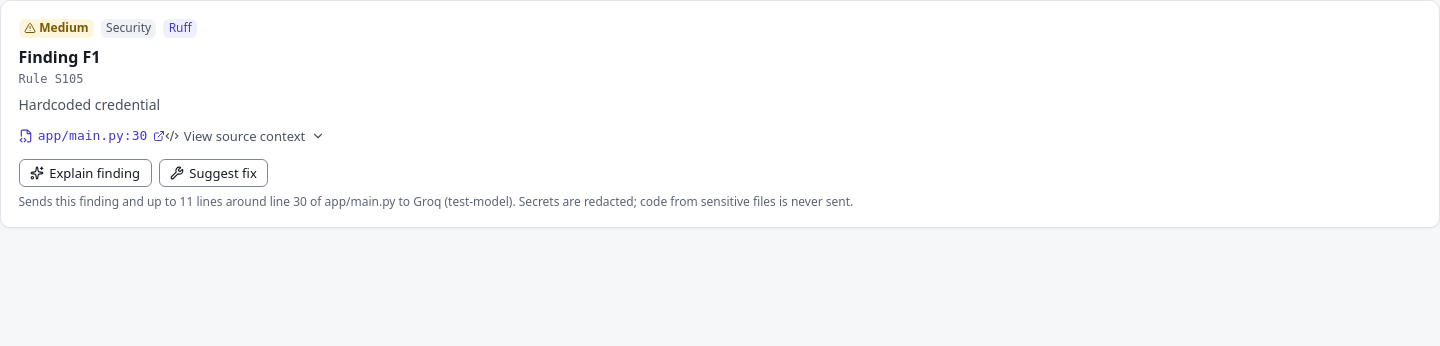
Test: finding AI (B5) › never renders raw HTML from the model
Click the button "Explain finding": (85, 173) left=18, top=159, right=152, bottom=187
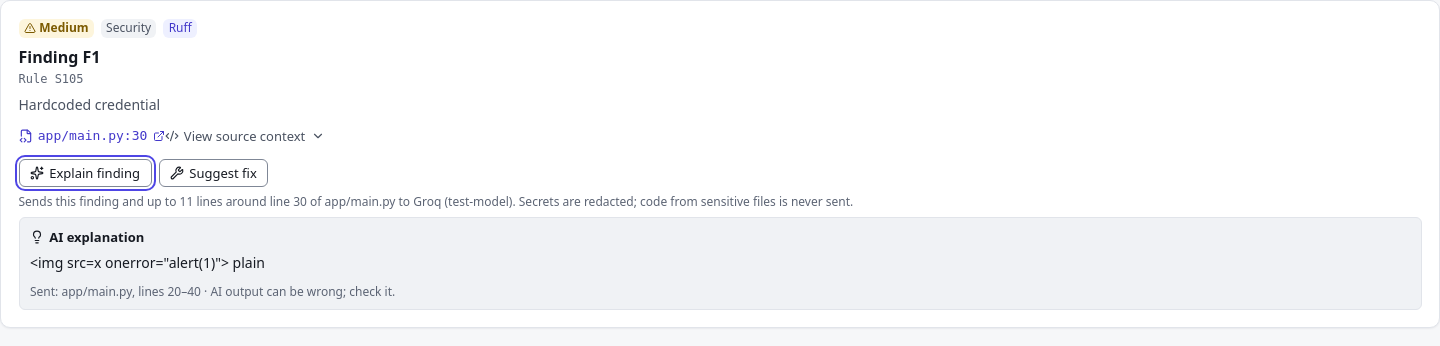
Expected: the element "AI explanation" is shown, left=18, top=217, right=1422, bottom=310
